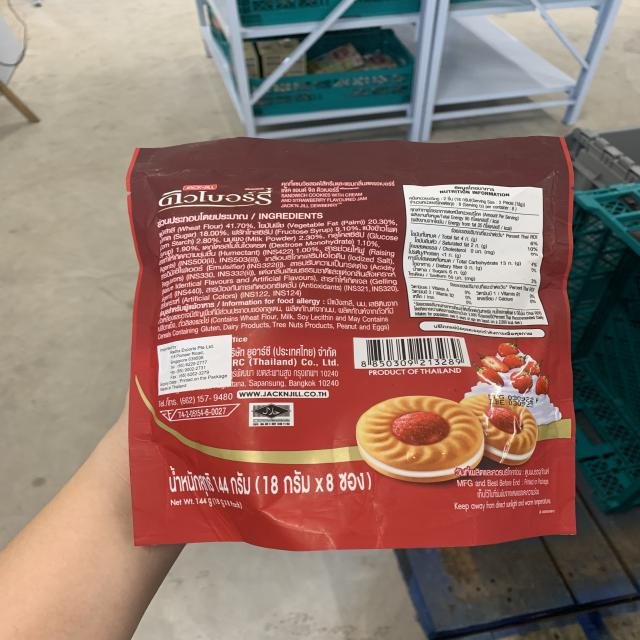object_name: (135, 154, 563, 533)
